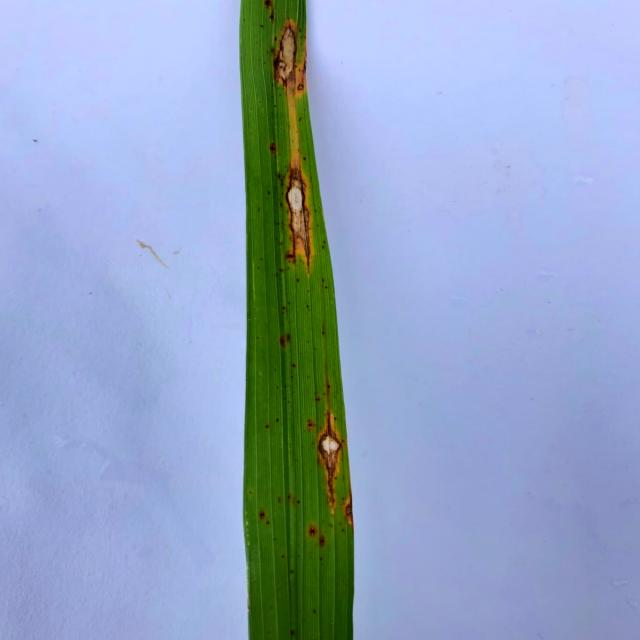leaf blast: (279, 161, 319, 276), (311, 406, 347, 509), (268, 13, 303, 90), (338, 494, 357, 531), (257, 0, 283, 24), (252, 506, 273, 530), (315, 528, 332, 552), (302, 521, 320, 540)
